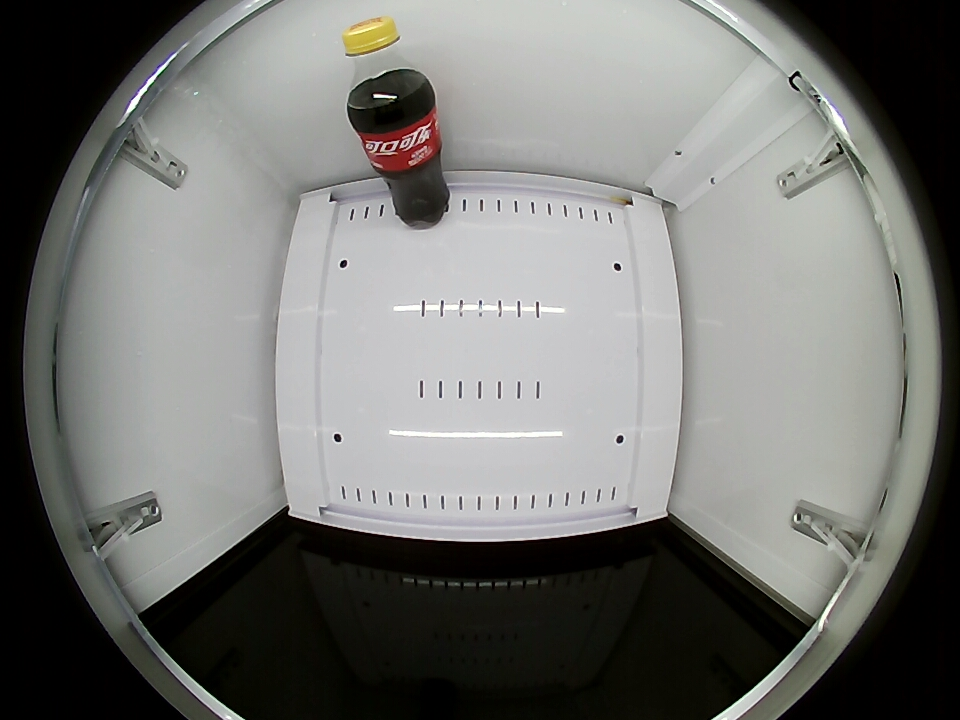kele-b-2: (342, 16, 429, 114)
